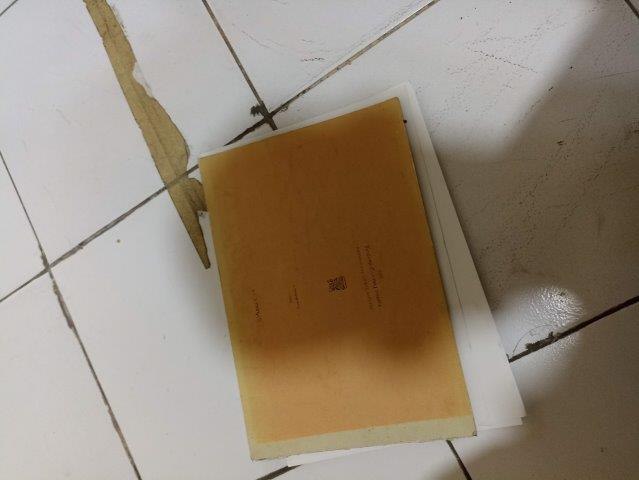kertas: (197, 83, 526, 463)
